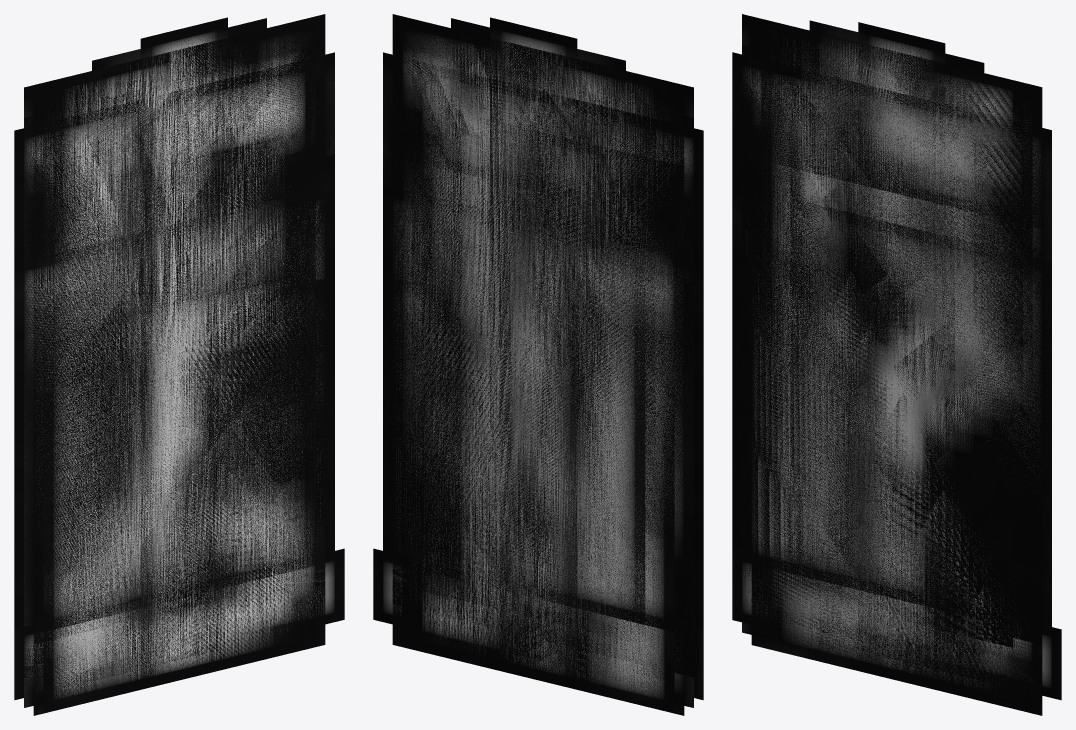
The model's file is msgothic.fbx.
3 renders of one model, left to right at view 1: azimuth 30°, elevation 25°; view 2: azimuth 150°, elevation 25°; view 3: azimuth 330°, elevation 25°, orthographic.
Parts seen in each view (by area): view 1: Untitled.073, Untitled.012, Untitled.074, Untitled.018, Untitled.095, Untitled.040, Untitled.033, Untitled.087, Untitled.078, Untitled.090, Untitled.075, Untitled.097 (+28 smaller); view 2: Untitled.094, Untitled.035, Untitled.012, Untitled.077, Untitled.085, Untitled.034, Untitled.087, Untitled.097, Untitled.083, Untitled.052, Untitled.092, Untitled.095 (+33 smaller); view 3: Untitled.034, Untitled.033, Untitled.036, Untitled.080, Untitled.092, Untitled.097, Untitled.094, Untitled.073, Untitled.064, Untitled.011, Untitled.053, Untitled.007 (+33 smaller).
Part boxes in pixels (left/top/right/bottom): Untitled.073: left=43, top=57, right=315, bottom=629; Untitled.012: left=33, top=74, right=218, bottom=695; Untitled.074: left=43, top=308, right=325, bottom=713; Untitled.018: left=24, top=15, right=325, bottom=707; Untitled.095: left=140, top=17, right=227, bottom=689; Untitled.040: left=54, top=58, right=315, bottom=568; Untitled.033: left=33, top=72, right=325, bottom=644; Untitled.087: left=33, top=101, right=315, bottom=610; Untitled.078: left=53, top=65, right=325, bottom=571; Untitled.090: left=14, top=185, right=334, bottom=628; Untitled.075: left=43, top=59, right=305, bottom=630; Untitled.097: left=53, top=14, right=325, bottom=219; Untitled.094: left=412, top=21, right=567, bottom=675; Untitled.035: left=392, top=45, right=693, bottom=677; Untitled.012: left=499, top=50, right=684, bottom=683; Untitled.077: left=451, top=73, right=655, bottom=682; Untitled.085: left=441, top=186, right=645, bottom=624; Untitled.034: left=421, top=84, right=653, bottom=645; Untitled.087: left=409, top=106, right=684, bottom=556; Untitled.097: left=392, top=14, right=664, bottom=222; Untitled.083: left=402, top=269, right=674, bottom=713; Untitled.052: left=392, top=56, right=684, bottom=624; Untitled.092: left=402, top=244, right=684, bottom=715; Untitled.095: left=490, top=17, right=577, bottom=689; Untitled.034: left=761, top=61, right=1013, bottom=647; Untitled.033: left=751, top=49, right=1042, bottom=644; Untitled.036: left=742, top=55, right=1051, bottom=634; Untitled.080: left=742, top=222, right=1051, bottom=635; Untitled.092: left=751, top=209, right=1032, bottom=711; Untitled.097: left=771, top=22, right=1042, bottom=228; Untitled.094: left=868, top=46, right=1022, bottom=697; Untitled.073: left=761, top=60, right=1032, bottom=589; Untitled.064: left=761, top=40, right=945, bottom=660; Untitled.011: left=868, top=96, right=1042, bottom=695; Untitled.053: left=761, top=61, right=1051, bottom=635; Untitled.007: left=761, top=19, right=1022, bottom=662.
Bounding box in the file's own units: 56.67 × 107 × 1.74e-05.
1 material, 1 textured.
